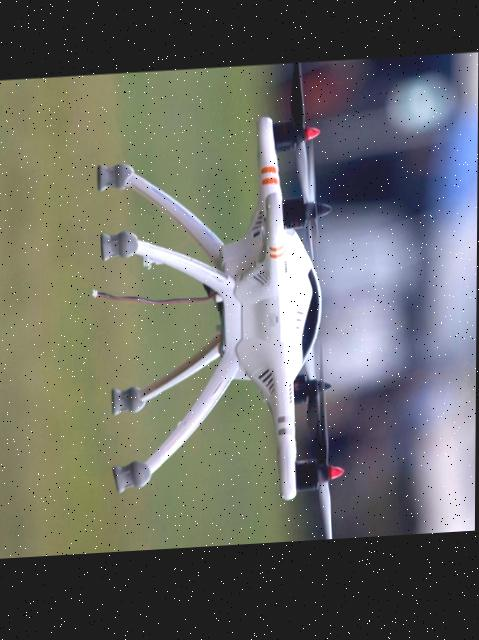drone: (79, 63, 366, 556)
